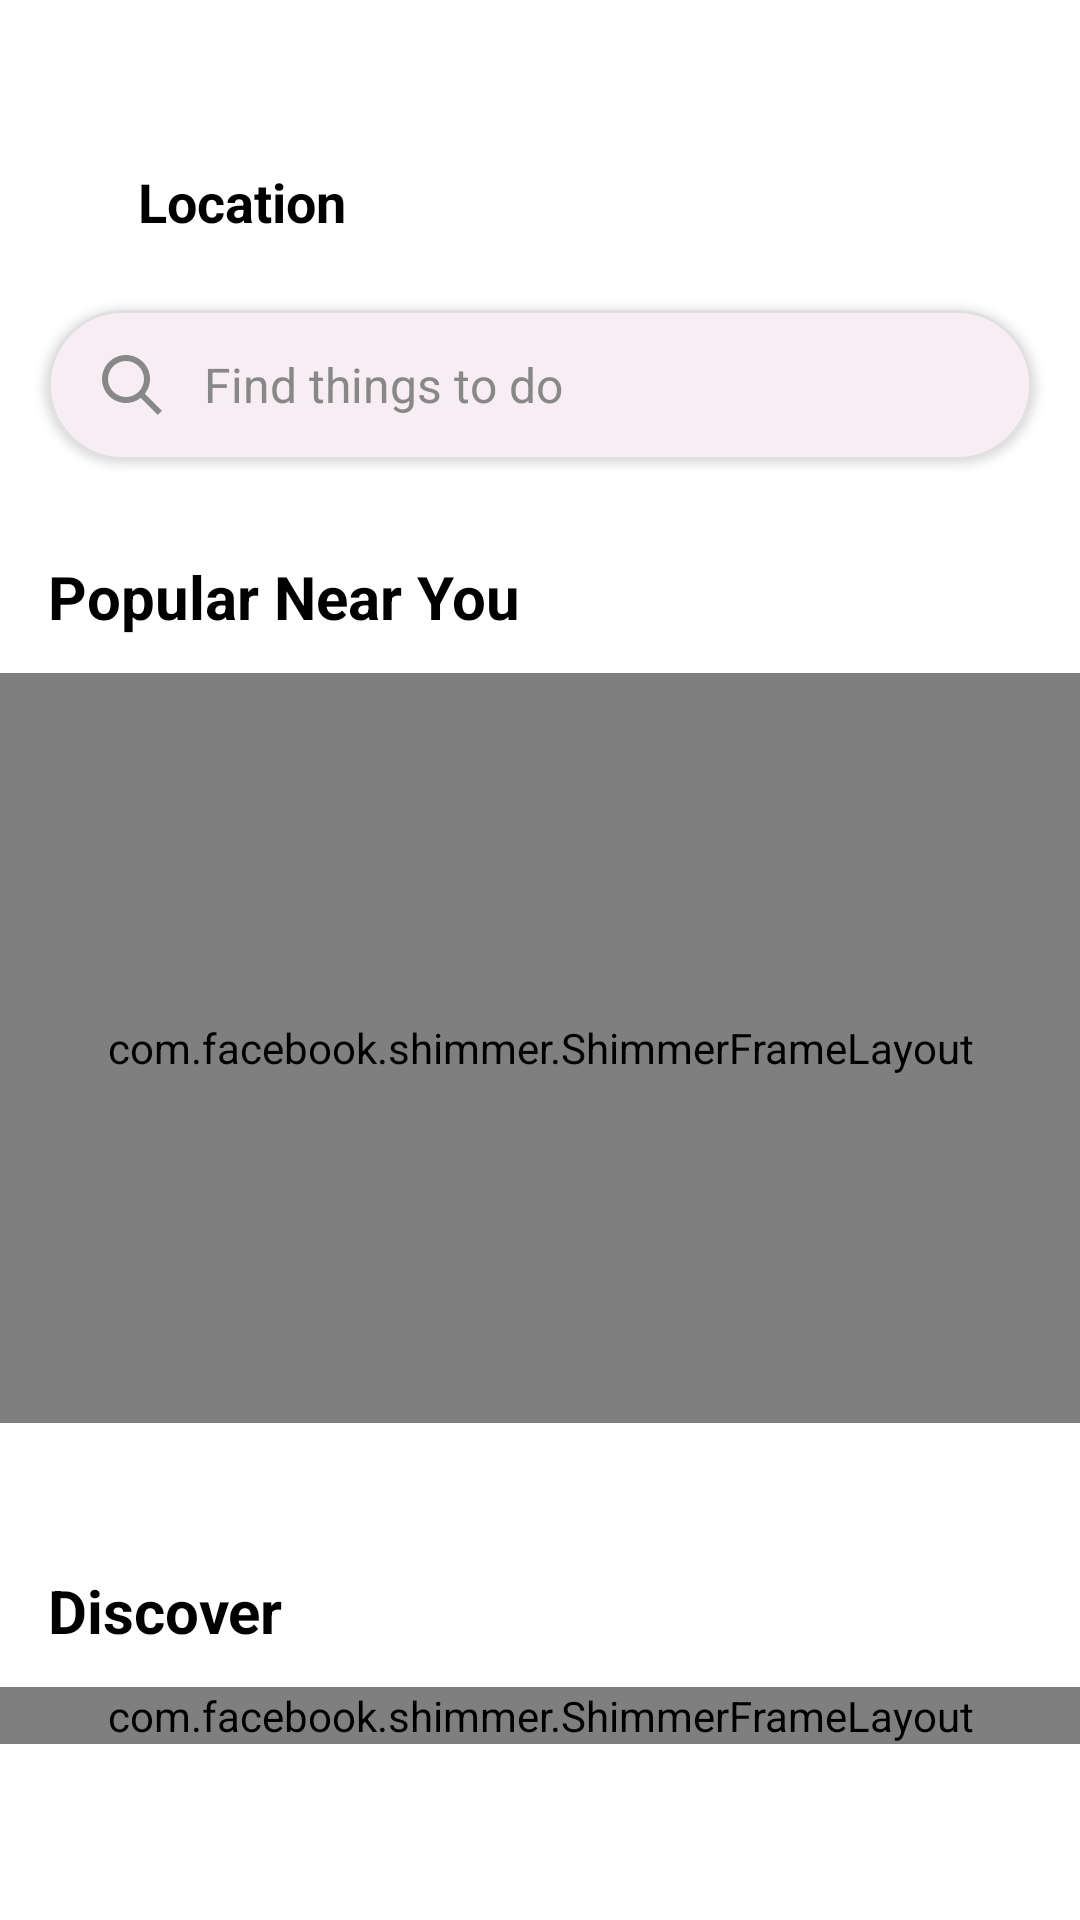

Icons on this 1080×1920 Android screen, each with its box as (x1, y1, x2, y2):
search: (102, 355, 162, 415)
